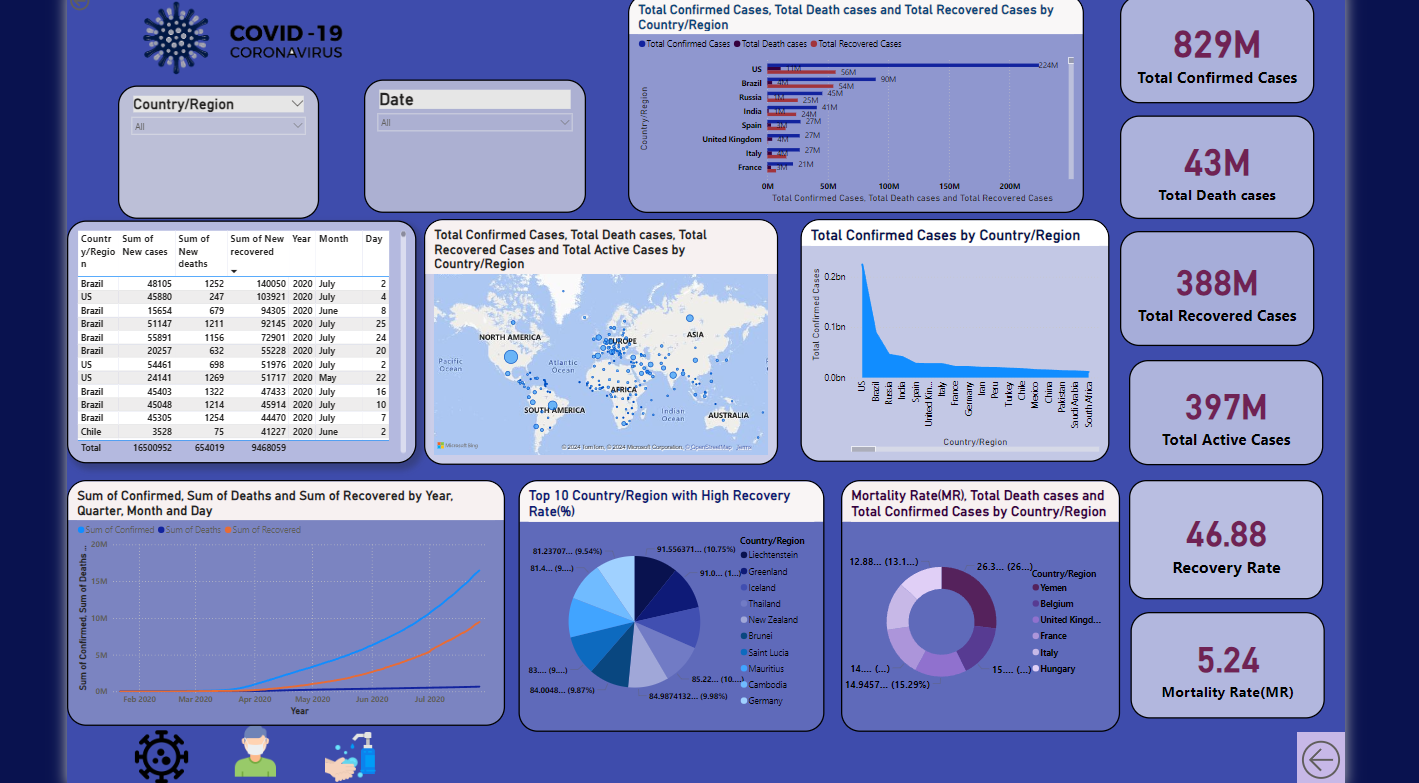

What the dashboard file says about the page in this screenshot:
{"tool":"powerbi","page":{"name":"Dashboard","canvas":[2000,1250],"ordinal":1},"visuals":[{"type":"image","box":[0,0,557.4,161.7],"z":0},{"type":"image","box":[100.9,1154.6,93.9,96.2],"z":1000},{"type":"image","box":[246.4,1135.8,96.2,115],"z":2000},{"type":"image","box":[394.3,1154.6,96.2,96.2],"z":3000},{"type":"lineChart","fields":{"Y":["Sum(full_grouped.Confirmed)","Sum(full_grouped.Deaths)","Sum(full_grouped.Recovered)"],"Category":["full_grouped.Date.Variation.Date Hierarchy.Year","full_grouped.Date.Variation.Date Hierarchy.Quarter","full_grouped.Date.Variation.Date Hierarchy.Month","full_grouped.Date.Variation.Date Hierarchy.Day"]},"box":[0,769.7,685.2,384.9],"z":4000},{"type":"map","fields":{"Category":["full_grouped.Country/Region"],"Size":["full_grouped.Total Confirmed Cases"]},"box":[558.5,361.4,553.8,384.9],"z":5000},{"type":"pieChart","title":"Top 10 Country/Region with High Recovery Rate(%)","fields":{"Category":["full_grouped.Country/Region"],"Y":["full_grouped.Recovery Rate"]},"box":[706.4,769.7,478.7,394.3],"z":6000},{"type":"donutChart","fields":{"Category":["full_grouped.Country/Region"],"Y":["full_grouped.Mortality Rate(MR)"]},"box":[1210.9,769.7,436.5,394.3],"z":7000},{"type":"actionButton","box":[0,0,100,40],"z":8000},{"type":"tableEx","fields":{"Values":["full_grouped.Country/Region","Sum(full_grouped.New cases)","Sum(full_grouped.New deaths)","Sum(full_grouped.New recovered)","full_grouped.Date.Variation.Date Hierarchy.Year","full_grouped.Date.Variation.Date Hierarchy.Month","full_grouped.Date.Variation.Date Hierarchy.Day"]},"box":[0,363.7,546.8,380.2],"z":9000},{"type":"clusteredBarChart","fields":{"Category":["full_grouped.Country/Region"],"Y":["full_grouped.Total Confirmed Cases","full_grouped.Total Death cases","full_grouped.Total Recovered Cases"]},"box":[877.7,9.4,713.4,342.6],"z":10000},{"type":"card","fields":{"Values":["full_grouped.Total Confirmed Cases"]},"box":[1646.8,11.3,304.1,169],"z":11000},{"type":"card","fields":{"Values":["full_grouped.Total Death cases"]},"box":[1646.8,200.5,304.1,162.2],"z":12000},{"type":"card","fields":{"Values":["full_grouped.Total Recovered Cases"]},"box":[1646.8,380.7,304.1,180.2],"z":13000},{"type":"card","fields":{"Values":["full_grouped.Total Active Cases"]},"box":[1662.6,581.2,304.1,164.5],"z":14000},{"type":"card","fields":{"Values":["full_grouped.Recovery Rate"]},"box":[1662.6,770.5,304.1,187],"z":15000},{"type":"card","fields":{"Values":["full_grouped.Mortality Rate(MR)"]},"box":[1664.9,975.5,304.1,166.7],"z":16000},{"type":"slicer","title":"Country/Region","fields":{"Values":["full_grouped.Country/Region"]},"box":[79.8,152.5,314.5,208.9],"z":17000},{"type":"slicer","fields":{"Values":["full_grouped.Date"]},"box":[464.7,143.2,347.3,208.9],"z":18000},{"type":"areaChart","fields":{"Category":["full_grouped.Country/Region"],"Y":["full_grouped.Total Confirmed Cases"]},"box":[1147.6,361.4,483.4,380.2],"z":19000},{"type":"actionButton","box":[1924.3,1164,75.1,86.8],"z":20000}]}

Visuals, with their boxes in screenshot pixels (x1, y1, x2, y2):
image: [left=63, top=0, right=420, bottom=89]
image: [left=127, top=725, right=188, bottom=782]
image: [left=221, top=713, right=282, bottom=782]
image: [left=315, top=725, right=377, bottom=782]
lineChart - Sum(full_grouped.Confirmed) x Sum(full_grouped.Deaths): [left=63, top=478, right=502, bottom=725]
map - full_grouped.Country/Region x full_grouped.Total Confirmed Cases: [left=421, top=217, right=776, bottom=463]
"Top 10 Country/Region with High Recovery Rate(%)" pieChart: [left=515, top=478, right=822, bottom=731]
donutChart - full_grouped.Country/Region x full_grouped.Mortality Rate(MR): [left=839, top=478, right=1118, bottom=731]
actionButton: [left=63, top=0, right=127, bottom=11]
tableEx - full_grouped.Country/Region x Sum(full_grouped.New cases): [left=63, top=218, right=413, bottom=462]
clusteredBarChart - full_grouped.Country/Region x full_grouped.Total Confirmed Cases: [left=625, top=0, right=1082, bottom=211]
card - full_grouped.Total Confirmed Cases: [left=1118, top=0, right=1313, bottom=101]
card - full_grouped.Total Death cases: [left=1118, top=114, right=1313, bottom=218]
card - full_grouped.Total Recovered Cases: [left=1118, top=229, right=1313, bottom=345]
card - full_grouped.Total Active Cases: [left=1128, top=358, right=1323, bottom=463]
card - full_grouped.Recovery Rate: [left=1128, top=479, right=1323, bottom=599]
card - full_grouped.Mortality Rate(MR): [left=1130, top=610, right=1325, bottom=717]
"Country/Region" slicer: [left=114, top=83, right=315, bottom=217]
slicer - full_grouped.Date: [left=361, top=77, right=583, bottom=211]
areaChart - full_grouped.Country/Region x full_grouped.Total Confirmed Cases: [left=798, top=217, right=1108, bottom=460]
actionButton: [left=1296, top=731, right=1344, bottom=782]
